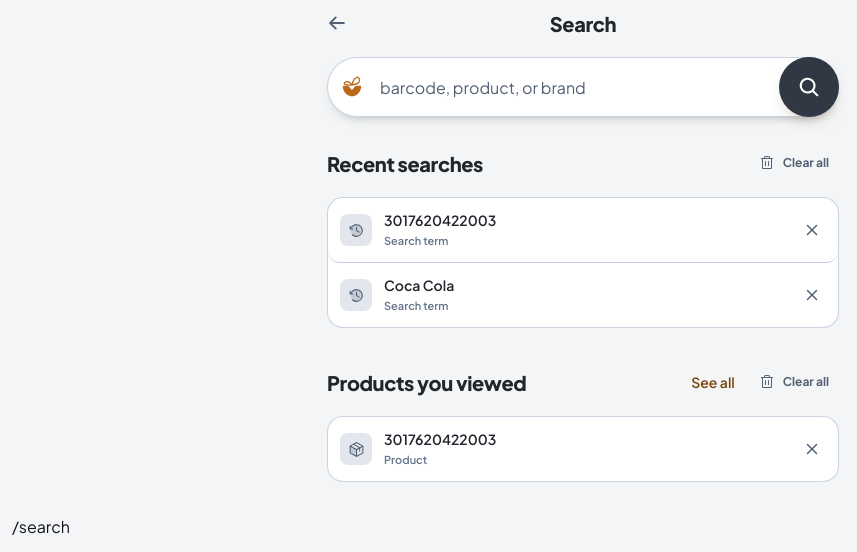
Scenario: search page › clears each history section independently
The width and height of the screenshot is (857, 552).
Step 1. Click the button with aria-label "Clear recent searches" → (794, 163), box [749,141,839,185]
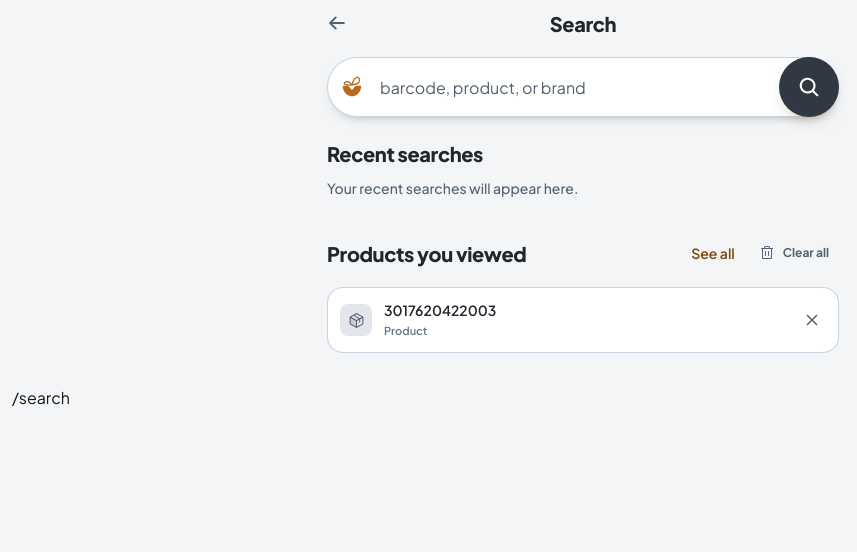
Expected: the link with aria-label "View Product 3017620422003" is shown, [340,301,496,337]
Expected: the text "Your recent searches will appear here." is shown, [327,179,578,197]
Step 2. Click the button with aria-label "Clear viewed Products" → (794, 253), box [749,231,839,275]
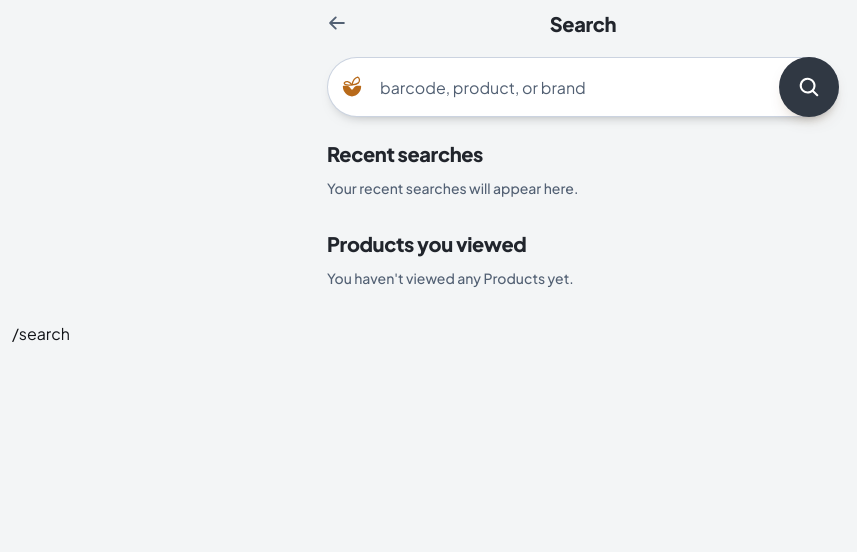
Expected: the text "You haven't viewed any Products yet." is shown, [327,269,574,287]
